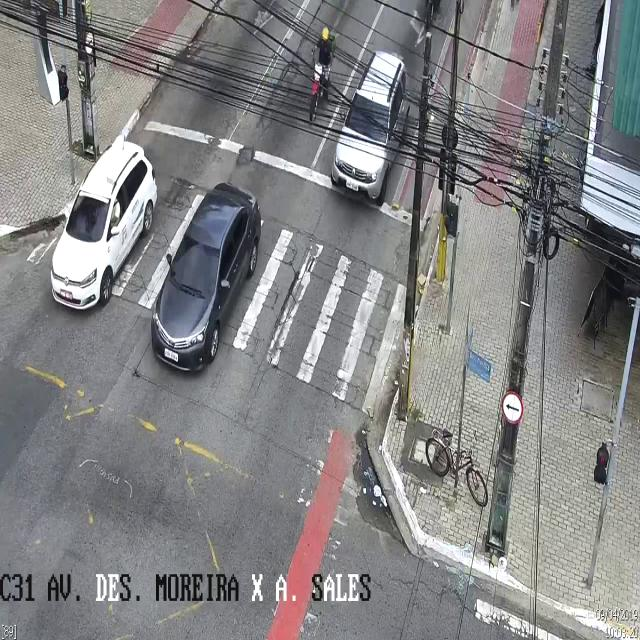Car: (151, 183, 260, 373), (49, 133, 155, 312), (331, 50, 408, 204)
Motorcycle: (308, 25, 334, 124)
